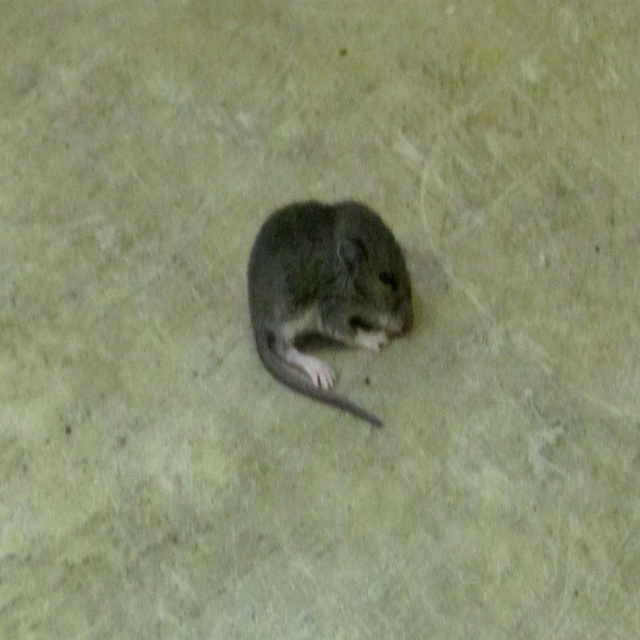Mouse: (247, 202, 412, 420)
